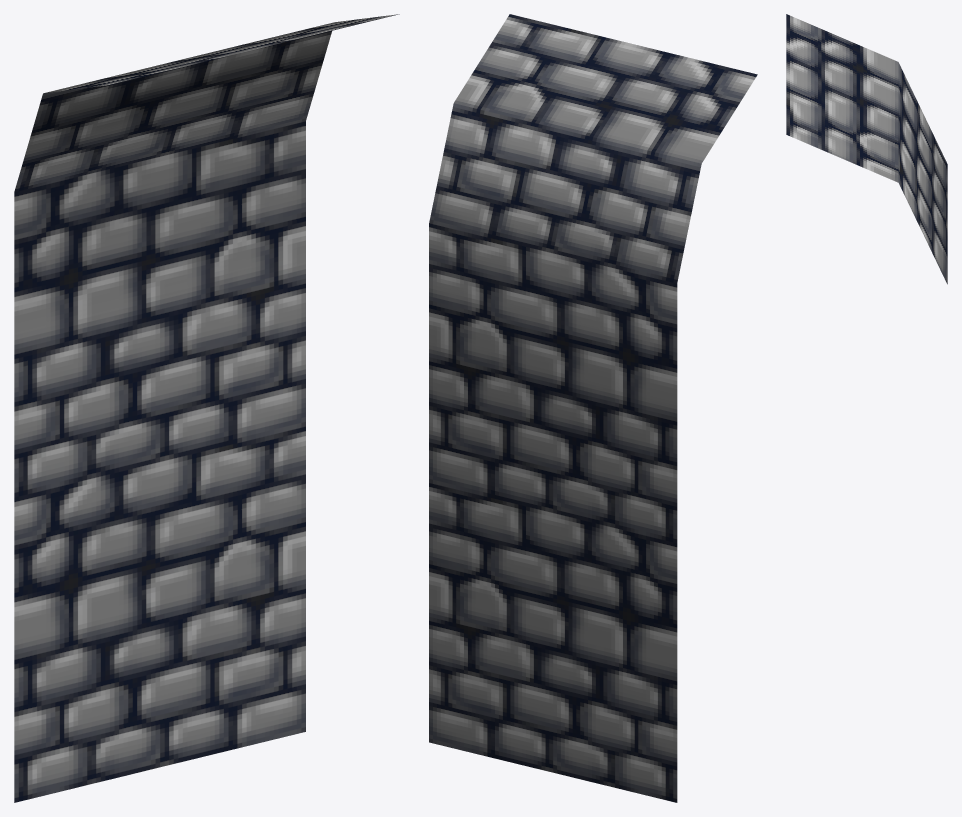
Rendered from Mur.glb.
3 views of the same model, side by side, from view 1: azimuth 30°, elevation 25°; view 2: azimuth 150°, elevation 25°; view 3: azimuth 270°, elevation 25° (orthographic). The views are drawn at different scales.
Visible parts, largest first — view 1: Mur; view 2: Mur; view 3: Mur.
Part boxes in pixels (bbox=[...]): Mur: bbox=[14, 14, 399, 802]; Mur: bbox=[429, 14, 757, 802]; Mur: bbox=[786, 14, 947, 284].
Bounding box in the file's own units: 2 × 5.16 × 1.13.
Materials: 1 (1 with a texture image).
